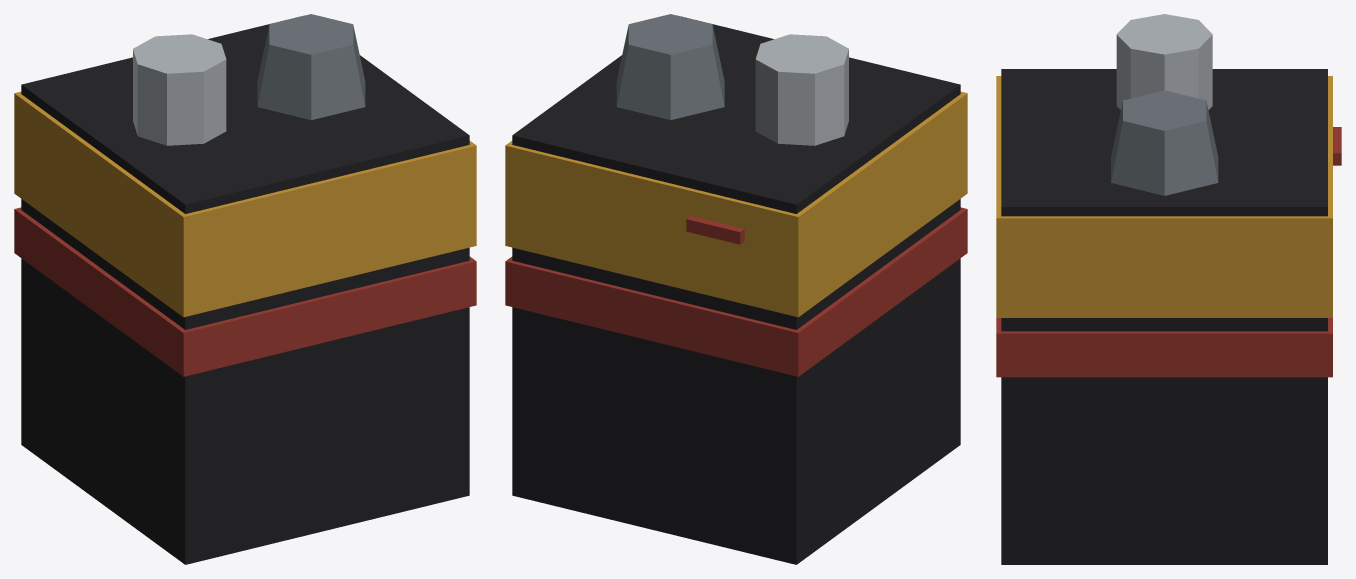
File: battery.glb
The picture shows the model from 3 angles, left to right: view 1: azimuth 30°, elevation 25°; view 2: azimuth 150°, elevation 25°; view 3: azimuth 270°, elevation 25°; orthographic projection.
Visible parts, largest first — view 1: battery; view 2: battery; view 3: battery.
Boxes of the visible parts, x1,y1,x2,y2 form: battery: (14,14,476,564); battery: (505,14,967,564); battery: (996,14,1341,564).
Bounding box in the file's own units: 0.098 × 0.138 × 0.1005.
2 materials, 2 textured.
